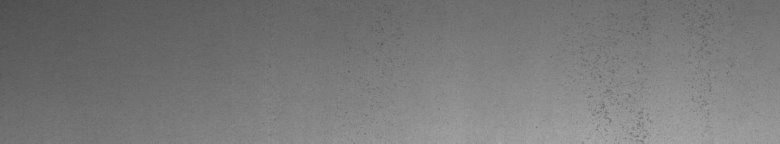ib: (592, 31, 644, 122)
